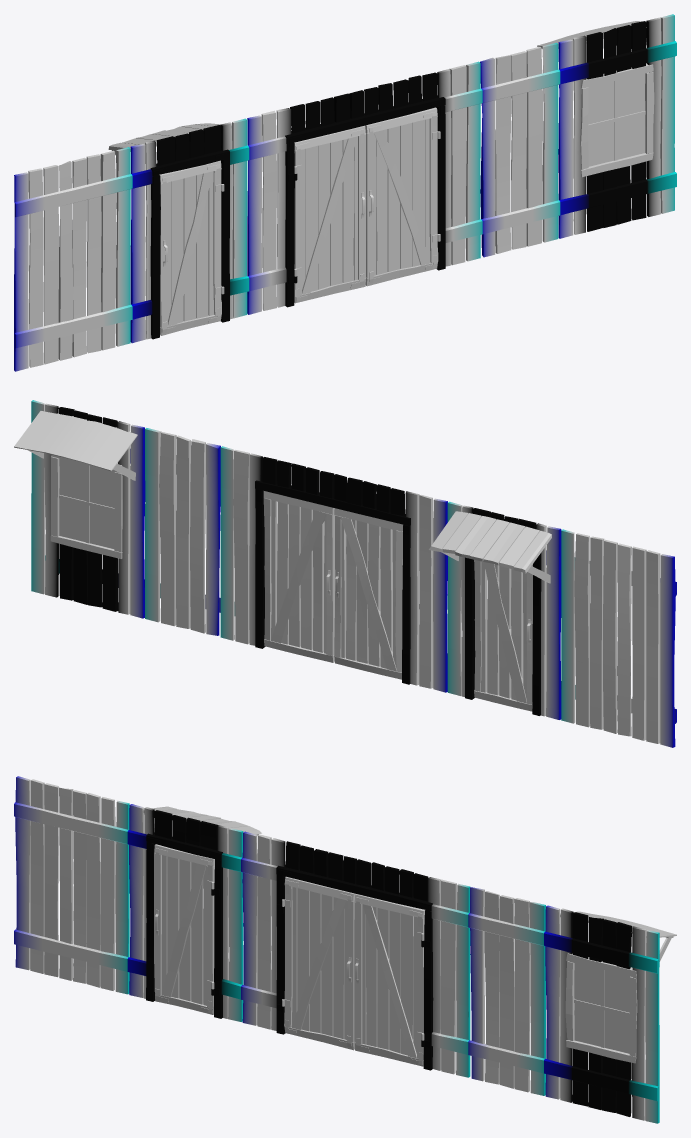
Rendered from MBSSecondPack_WoodenWalls.fbx.
3 renders of one model, top to bottom at view 1: azimuth 30°, elevation 25°; view 2: azimuth 150°, elevation 25°; view 3: azimuth 330°, elevation 25°, orthographic. The views are drawn at different scales.
Parts seen in each view (by area): view 1: Doorway_1.003, Solid.001, Window.001, Solid_half.001, Doorway_1.002, Door_2.003, Door_2.002, Door_1.001, Window_frame_glass.001, Window_frame.001, visor.001; view 2: Solid.001, Doorway_1.003, Solid_half.001, Window.001, Door_2.003, Door_2.002, Doorway_1.002, Door_1.001, visor.001, visor_metal.001, Window_frame_glass.001, Window_frame.001; view 3: Doorway_1.003, Solid.001, Window.001, Solid_half.001, Doorway_1.002, Door_2.002, Door_2.003, Door_1.001, Window_frame_glass.001, Window_frame.001, visor.001, visor_metal.001.
Part boxes in pixels (left/top/right/bottom): Doorway_1.003: left=247, top=61, right=482, bottom=314; Solid.001: left=14, top=147, right=132, bottom=371; Window.001: left=558, top=14, right=676, bottom=238; Solid_half.001: left=480, top=42, right=560, bottom=257; Doorway_1.002: left=130, top=118, right=249, bottom=343; Door_2.003: left=365, top=107, right=440, bottom=286; Door_2.002: left=294, top=125, right=365, bottom=303; Door_1.001: left=159, top=160, right=224, bottom=335; Window_frame_glass.001: left=588, top=73, right=645, bottom=166; Window_frame.001: left=580, top=63, right=654, bottom=177; visor.001: left=108, top=123, right=231, bottom=173; Solid.001: left=561, top=529, right=676, bottom=747; Doorway_1.003: left=220, top=446, right=447, bottom=692; Solid_half.001: left=145, top=428, right=220, bottom=635; Window.001: left=31, top=400, right=145, bottom=618; Door_2.003: left=263, top=491, right=335, bottom=662; Door_2.002: left=334, top=508, right=402, bottom=679; Doorway_1.002: left=447, top=501, right=561, bottom=719; Door_1.001: left=474, top=560, right=532, bottom=711; visor.001: left=429, top=511, right=551, bottom=583; visor_metal.001: left=14, top=411, right=137, bottom=480; Window_frame_glass.001: left=59, top=458, right=114, bottom=548; Window_frame.001: left=50, top=454, right=122, bottom=558; Doorway_1.003: left=241, top=831, right=470, bottom=1077; Solid.001: left=14, top=776, right=129, bottom=994; Window.001: left=544, top=905, right=659, bottom=1123; Solid_half.001: left=468, top=887, right=545, bottom=1095; Doorway_1.002: left=127, top=804, right=243, bottom=1021; Door_2.002: left=282, top=876, right=355, bottom=1050; Door_2.003: left=354, top=894, right=424, bottom=1066; Door_1.001: left=154, top=844, right=214, bottom=1014; Window_frame_glass.001: left=574, top=963, right=629, bottom=1053; Window_frame.001: left=565, top=953, right=637, bottom=1063; visor.001: left=143, top=806, right=261, bottom=835; visor_metal.001: left=560, top=911, right=676, bottom=961.
Bounding box in the file's own units: 850 × 241 × 77.42.
